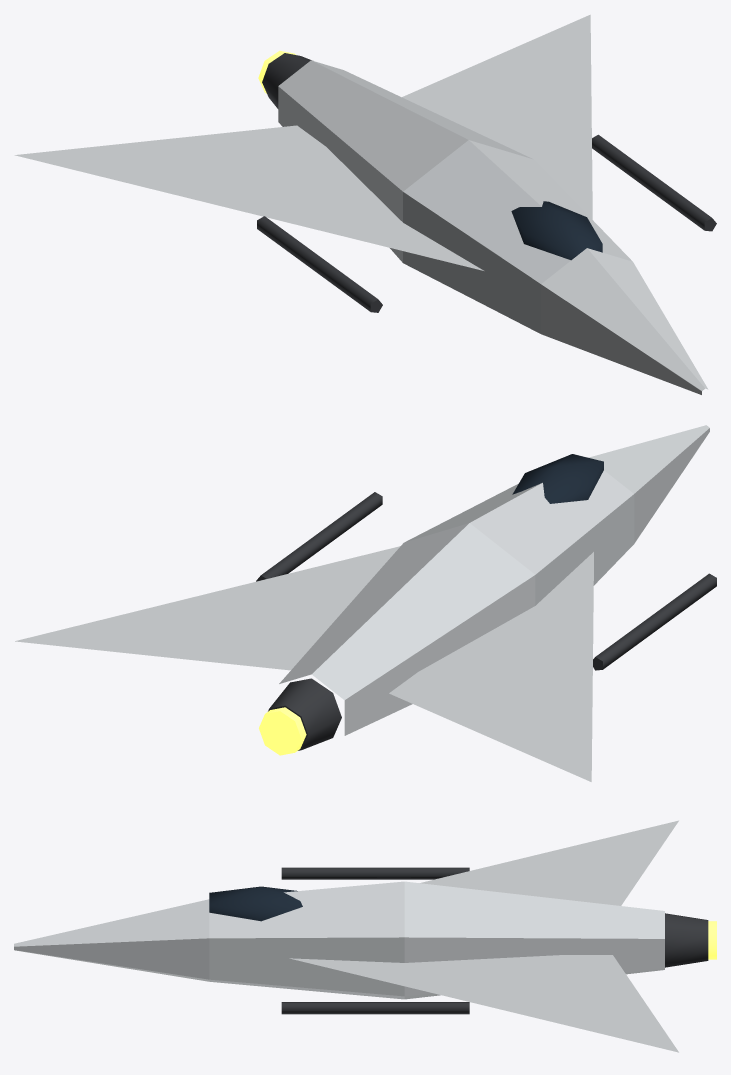
The model's file is space_ship_interceptor_mk1.glb.
3 views of the same model, one above another, from view 1: azimuth 30°, elevation 25°; view 2: azimuth 150°, elevation 25°; view 3: azimuth 270°, elevation 25° (orthographic). The views are drawn at different scales.
Parts seen in each view (by area): view 1: body, gun_r, gun_l, engine_0; view 2: body, engine_0, gun_r, gun_l; view 3: body, gun_l, engine_0, gun_r.
Boxes of the visible parts, bbox=[...] form: body: bbox=[14, 14, 708, 394]; gun_r: bbox=[257, 216, 382, 312]; gun_l: bbox=[592, 134, 716, 231]; engine_0: bbox=[258, 50, 311, 108]; body: bbox=[15, 425, 709, 781]; engine_0: bbox=[259, 678, 341, 755]; gun_r: bbox=[593, 573, 716, 670]; gun_l: bbox=[256, 492, 382, 581]; body: bbox=[14, 820, 678, 1052]; gun_l: bbox=[281, 1002, 469, 1014]; engine_0: bbox=[665, 913, 716, 967]; gun_r: bbox=[281, 867, 469, 879].
Size of what is drawn, in the model's own units: 7.6 by 1.8 by 9.72.
